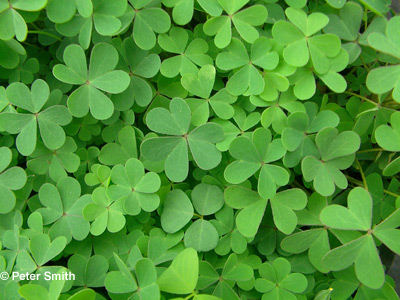oxalis: (1, 2, 400, 298)
